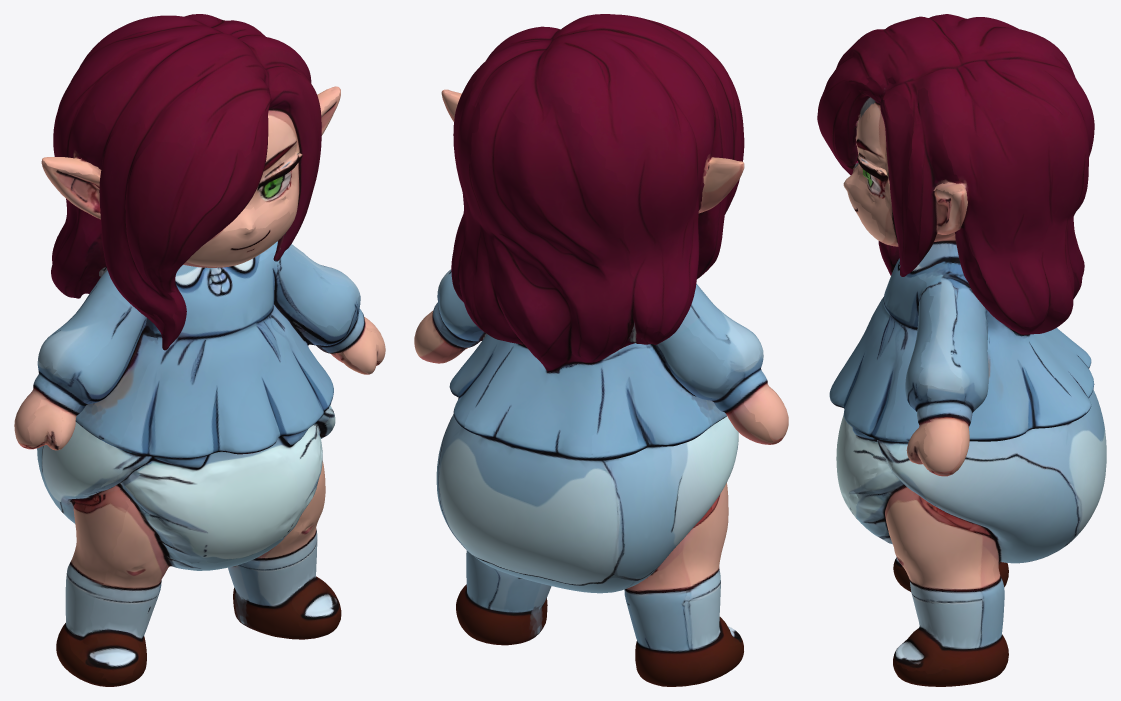
Rendered from silviedoll.glb.
3 renders of one model, left to right at view 1: azimuth 30°, elevation 25°; view 2: azimuth 150°, elevation 25°; view 3: azimuth 270°, elevation 25°, orthographic. The views are drawn at different scales.
Visible parts, largest first — view 1: temp_mesh.ply; view 2: temp_mesh.ply; view 3: temp_mesh.ply.
Boxes of the visible parts, left/top/right/bottom form: temp_mesh.ply: left=14, top=14, right=385, bottom=686; temp_mesh.ply: left=414, top=14, right=788, bottom=686; temp_mesh.ply: left=817, top=14, right=1106, bottom=686.
Size of the model in its own units: 1.23 by 1.97 by 0.8634.
1 material, 1 textured.
